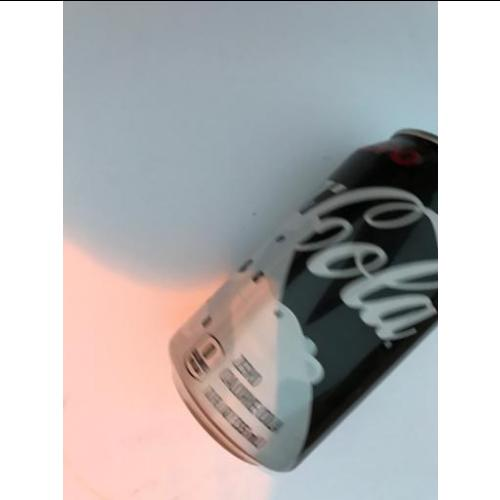metal: (170, 130, 437, 474)
